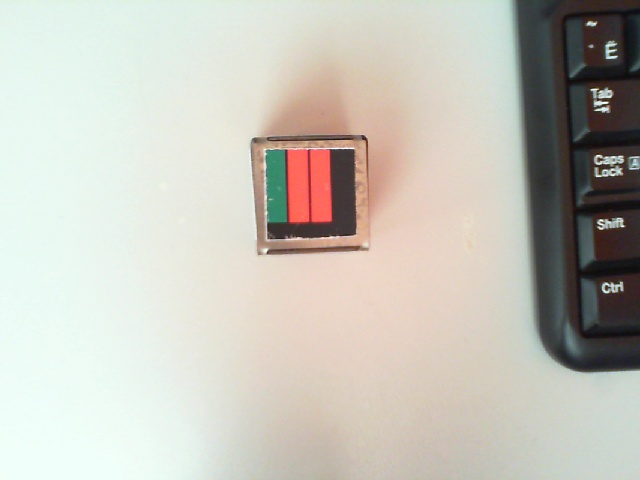square: (266, 147, 357, 240)
